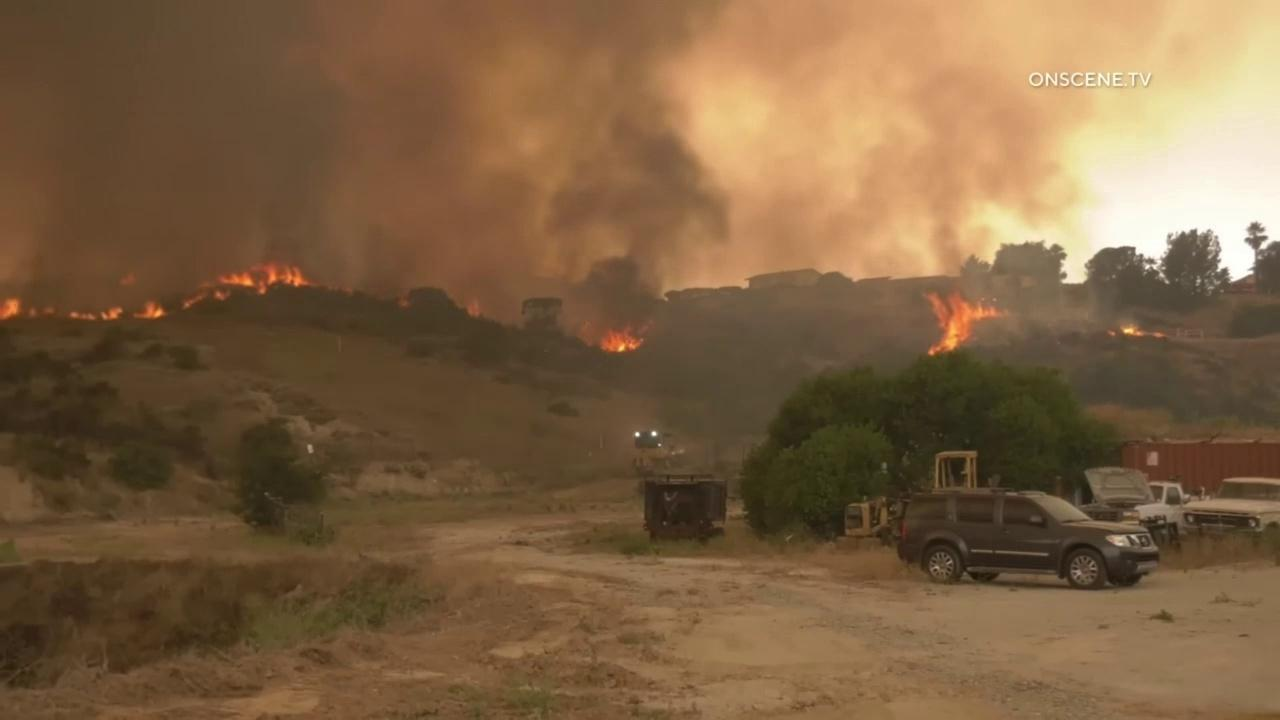fire: (181, 261, 311, 310), (923, 289, 1009, 356), (600, 322, 645, 353), (132, 299, 170, 320), (1119, 322, 1164, 339), (0, 295, 22, 320), (100, 305, 125, 321), (465, 296, 481, 318), (70, 310, 97, 321), (119, 272, 136, 285), (43, 305, 56, 314), (28, 306, 37, 318), (398, 296, 408, 306), (1105, 329, 1116, 336)
smoke: (0, 0, 1238, 354)
